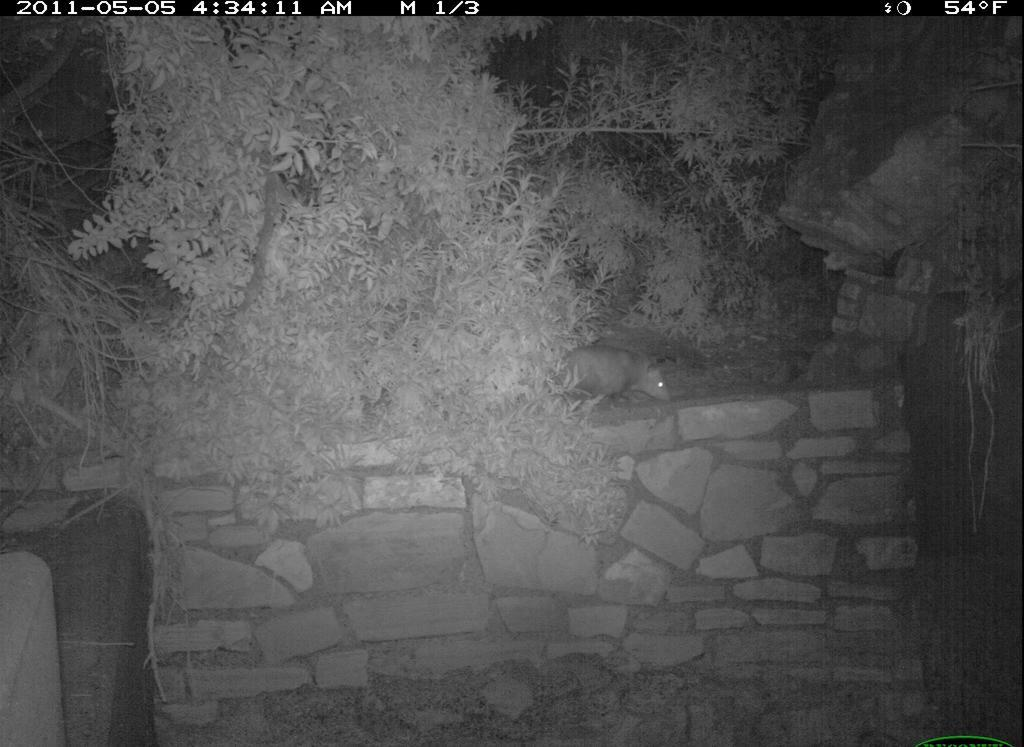opossum: (519, 338, 683, 419)
